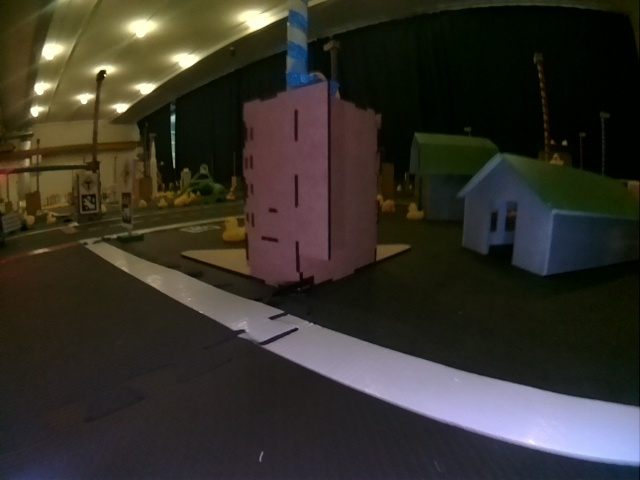Duckie: (221, 221, 245, 242), (406, 203, 423, 219), (549, 153, 564, 165), (382, 200, 395, 212), (47, 214, 56, 223), (158, 199, 167, 207), (175, 198, 184, 206), (26, 216, 34, 224), (227, 192, 234, 200), (140, 200, 147, 207)
Intersection sign: (80, 174, 97, 191)
QR code: (81, 198, 96, 211)
